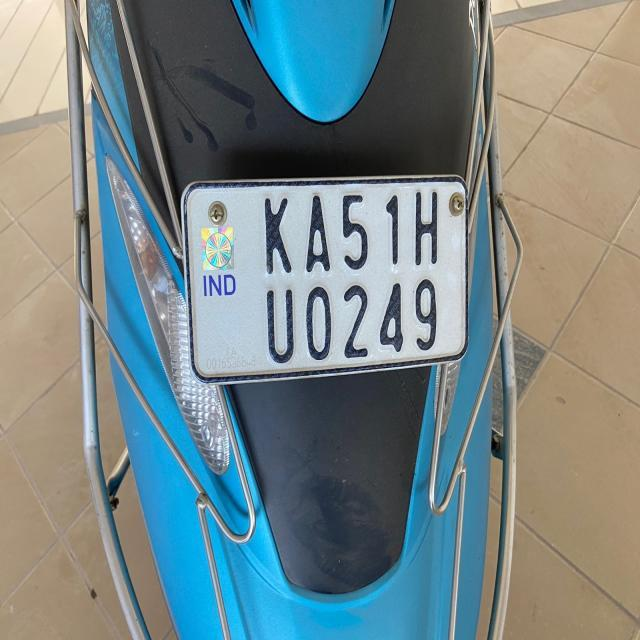0: (304, 282, 333, 362)
1: (382, 185, 406, 274)
4: (375, 278, 408, 354)
5: (340, 186, 372, 280)
9: (410, 276, 440, 356)
A: (300, 182, 335, 276)
H: (412, 183, 446, 267)
K: (259, 188, 294, 281)
U: (265, 286, 298, 366)
